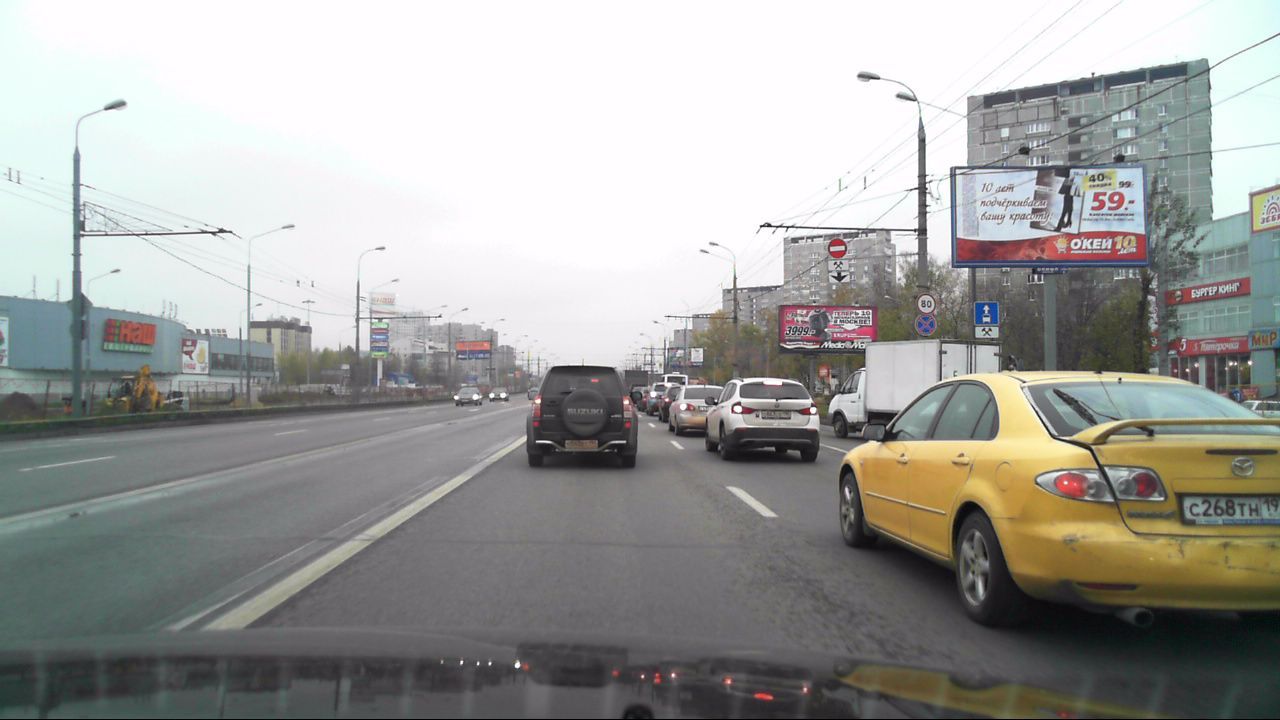No Parking: (913, 315, 935, 336)
